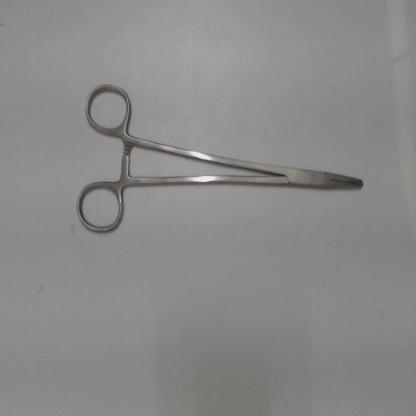8 Mayo Needle Holder: (68, 77, 374, 245)
